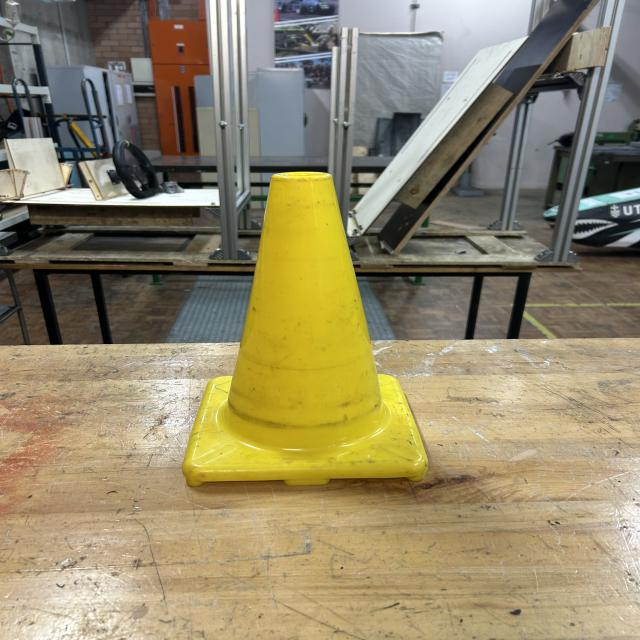yellow_cone: (184, 173, 427, 481)
